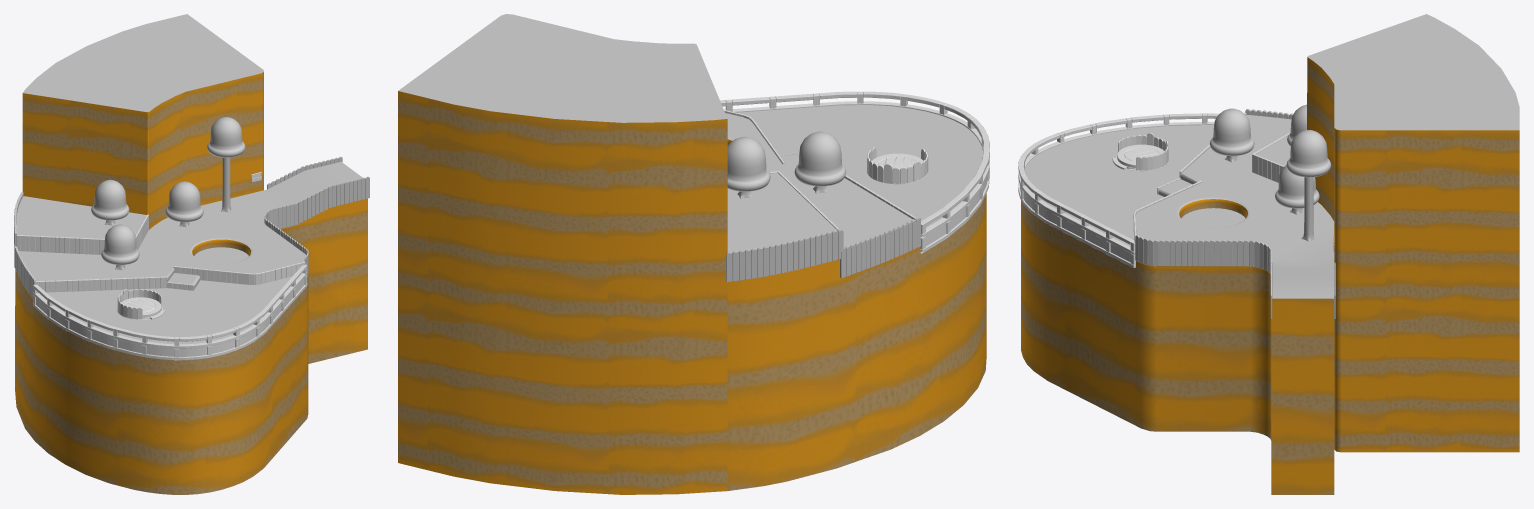
File: Blockout2.fbx
3 views of the same model, side by side, from view 1: azimuth 30°, elevation 25°; view 2: azimuth 150°, elevation 25°; view 3: azimuth 270°, elevation 25° (orthographic). The views are drawn at different scales.
Parts seen in each view (by area): view 1: Circle.004, Circle.018, Cube, Cube.002, Cube.004, Cube.001, Circle, Circle.005, Circle.002, Circle.007, Circle.012, Circle.013 (+5 smaller); view 2: Circle.004, Circle.018, Cube, Circle.009, Circle.010, Circle.007, Circle, Circle.029; view 3: Circle.004, Circle.018, Cube, Circle.012, Circle.002, Circle.007, Circle.005, Circle.029, Circle.003, Cube.005.
Part boxes in pixels (x1,y1,x2,y2): Circle.004: [15, 72, 367, 494]; Circle.018: [16, 14, 362, 344]; Cube: [33, 264, 307, 360]; Cube.002: [34, 276, 166, 292]; Cube.004: [16, 235, 104, 254]; Cube.001: [173, 261, 305, 284]; Circle: [91, 179, 129, 220]; Circle.005: [165, 181, 203, 222]; Circle.002: [207, 117, 245, 157]; Circle.007: [101, 224, 139, 264]; Circle.012: [264, 203, 308, 276]; Circle.013: [294, 186, 332, 225]; Circle.004: [398, 91, 986, 494]; Circle.018: [398, 14, 982, 253]; Cube: [720, 91, 989, 253]; Circle.009: [726, 229, 843, 282]; Circle.010: [840, 217, 920, 278]; Circle.007: [794, 131, 846, 186]; Circle: [727, 136, 770, 191]; Circle.029: [867, 147, 928, 183]; Circle.004: [1021, 57, 1519, 494]; Circle.018: [1024, 14, 1519, 298]; Cube: [1018, 113, 1219, 267]; Circle.012: [1135, 235, 1271, 274]; Circle.002: [1286, 130, 1331, 177]; Circle.007: [1209, 108, 1254, 155]; Circle.005: [1275, 165, 1319, 208]; Circle.029: [1118, 132, 1168, 170]; Circle.003: [1301, 177, 1315, 241]; Cube.005: [1253, 154, 1284, 182].
Bounding box in the file's own units: 6592 × 4963 × 7001.
